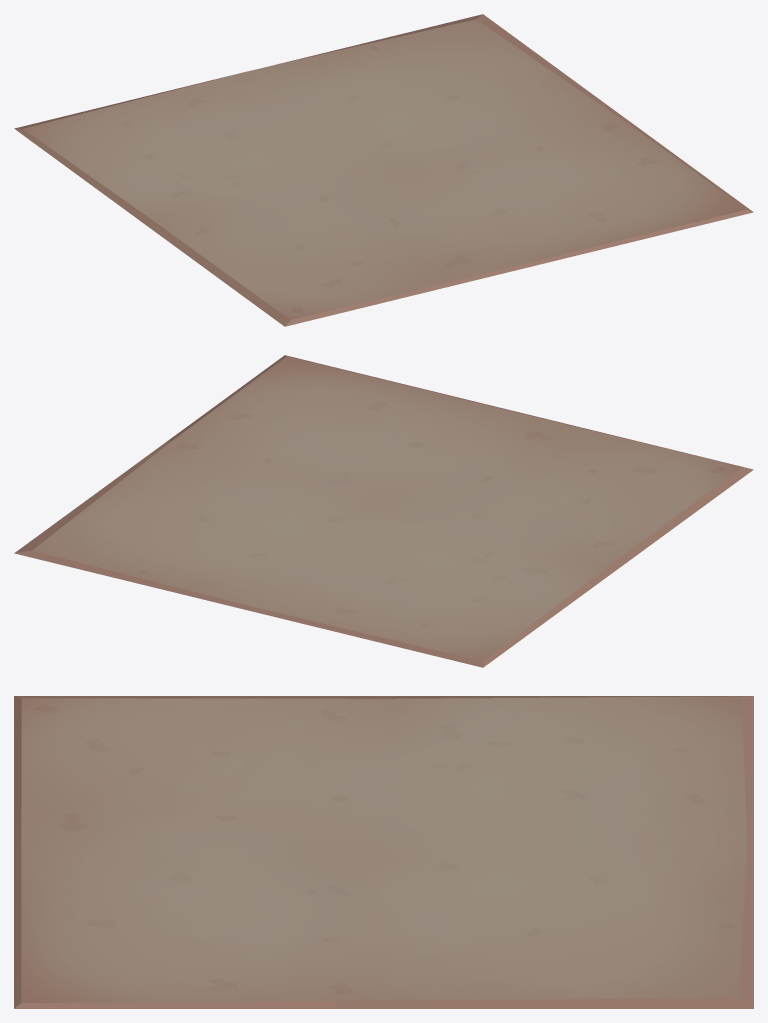
The model's file is SM_Env_Sidewalk_01.fbx.
The picture shows the model from 3 angles, top to bottom: view 1: azimuth 30°, elevation 25°; view 2: azimuth 150°, elevation 25°; view 3: azimuth 270°, elevation 25°; orthographic projection. The views are drawn at different scales.
Visible parts, largest first — view 1: SM_Env_Sidewalk_01; view 2: SM_Env_Sidewalk_01; view 3: SM_Env_Sidewalk_01.
Boxes of the visible parts, x1,y1,x2,y2 form: SM_Env_Sidewalk_01: [14, 14, 753, 326]; SM_Env_Sidewalk_01: [14, 355, 753, 667]; SM_Env_Sidewalk_01: [14, 696, 753, 1008].
Bounding box in the file's own units: 250 × 1.31 × 250.
